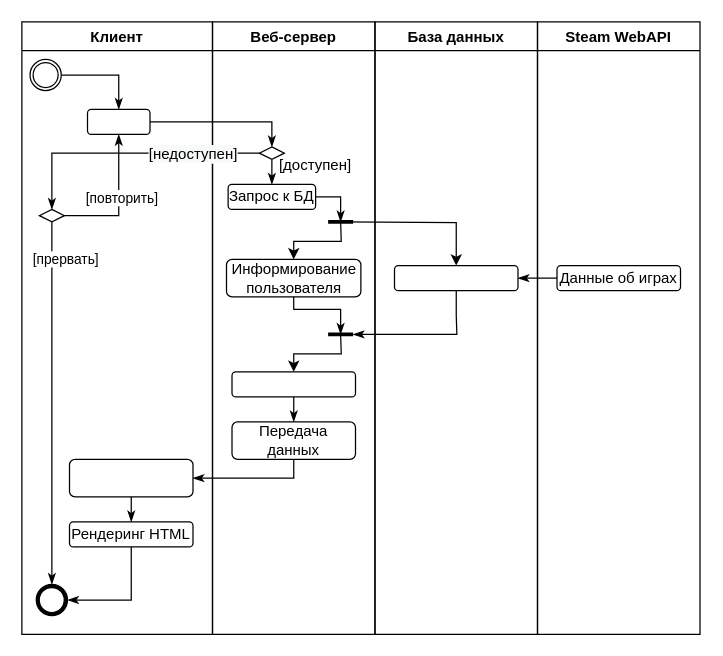
The diagram is 723 pixels wide and 656 high, and some of its shapes have lost their labels. Each missing label, with the centre of its shape:
Выборка данных: the point at 455,277
Генерация HTML: the point at 293,384
Запрос: the point at 118,121
Получение данные: the point at 130,477
